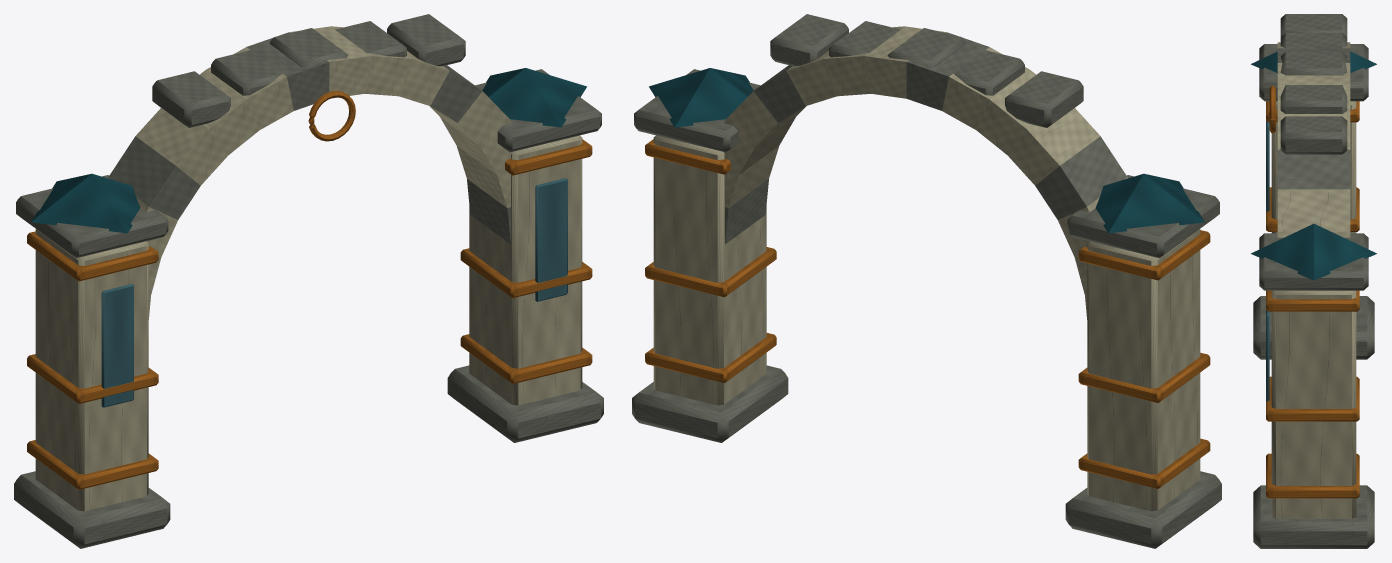
File: Portao_da_cidade_LOD0.fbx
The picture shows the model from 3 angles, left to right: view 1: azimuth 30°, elevation 25°; view 2: azimuth 150°, elevation 25°; view 3: azimuth 270°, elevation 25°; orthographic projection. The views are drawn at different scales.
Parts seen in each view (by area): view 1: Portao_da_cidade_LOD0; view 2: Portao_da_cidade_LOD0; view 3: Portao_da_cidade_LOD0.
Boxes of the visible parts, left/top/right/bottom form: Portao_da_cidade_LOD0: left=14, top=14, right=603, bottom=548; Portao_da_cidade_LOD0: left=632, top=14, right=1221, bottom=548; Portao_da_cidade_LOD0: left=1251, top=14, right=1376, bottom=548.
Size of the model in its own units: 950 by 685 by 210.
Materials: 1 (1 with a texture image).
